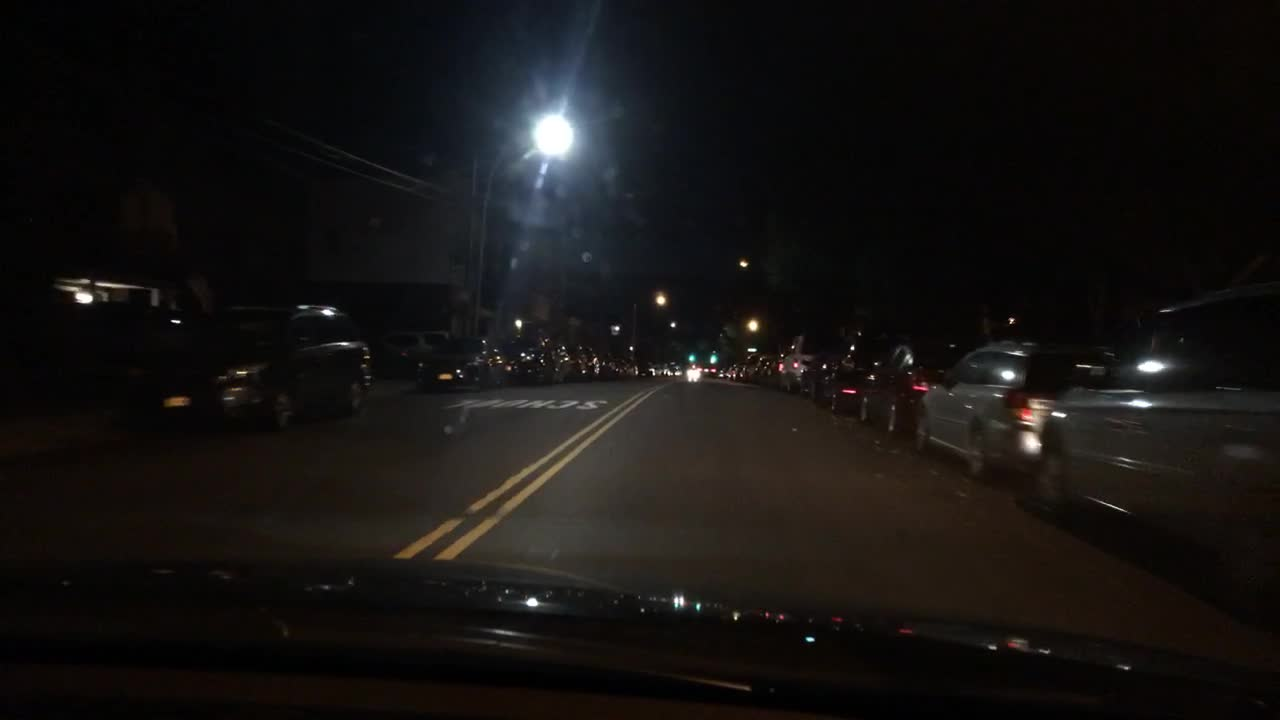car: (1039, 280, 1279, 595), (140, 302, 370, 433), (913, 338, 1121, 478), (859, 332, 967, 436), (423, 335, 504, 393), (779, 333, 848, 398), (798, 350, 859, 415), (501, 333, 569, 385), (379, 327, 451, 355), (368, 345, 422, 382), (569, 343, 601, 379), (761, 355, 783, 385), (599, 354, 623, 379), (743, 352, 761, 383), (637, 358, 654, 376), (734, 360, 746, 383), (624, 357, 637, 378), (668, 360, 684, 377), (654, 360, 668, 378), (725, 365, 736, 382), (714, 366, 728, 378), (685, 366, 699, 377), (702, 366, 714, 376)
traffic light: (687, 351, 696, 364), (710, 351, 717, 364)
